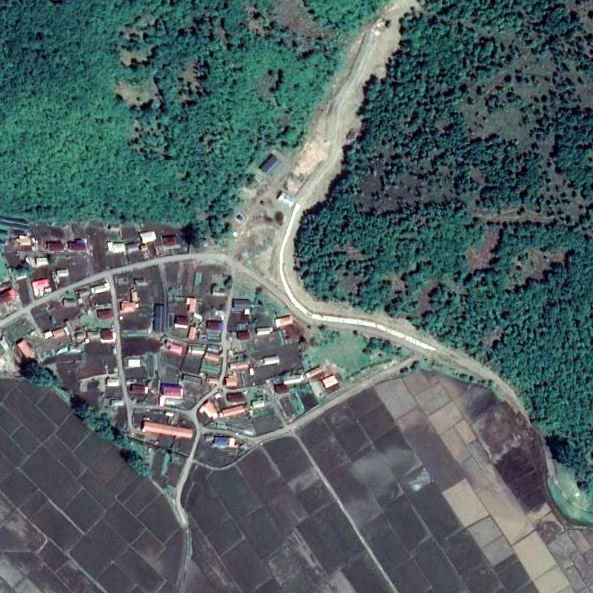slope: (290, 98, 337, 176)
